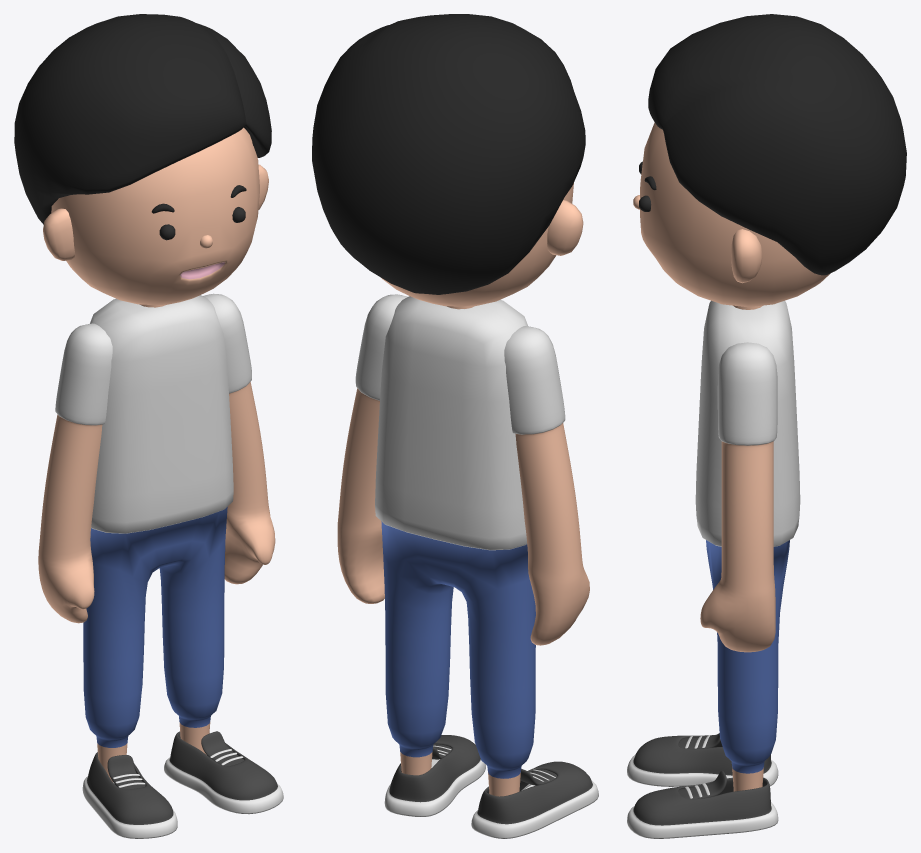
Rendered from Avatar.gltf.
3 renders of one model, left to right at view 1: azimuth 30°, elevation 25°; view 2: azimuth 150°, elevation 25°; view 3: azimuth 270°, elevation 25°, orthographic. The views are drawn at different scales.
Parts seen in each view (by area): view 1: Body.render, Head.render; view 2: Body.render, Head.render; view 3: Head.render, Body.render.
Boxes of the visible parts, x1,y1,x2,y2 form: Body.render: (38,293,283,838); Head.render: (14,14,271,304); Body.render: (337,294,598,838); Head.render: (312,14,585,306); Head.render: (633,14,906,307); Body.render: (627,300,800,838).
Size of the model in its own units: 0.5033 by 1.61 by 0.5306.
